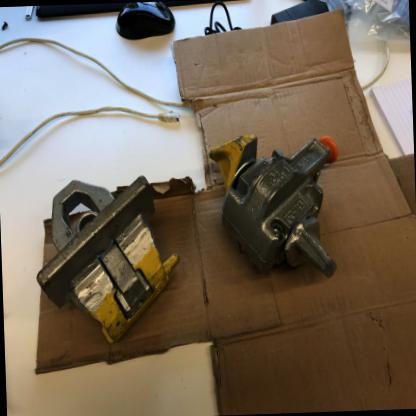Twistlock: (30, 164, 185, 356), (205, 123, 348, 288)
